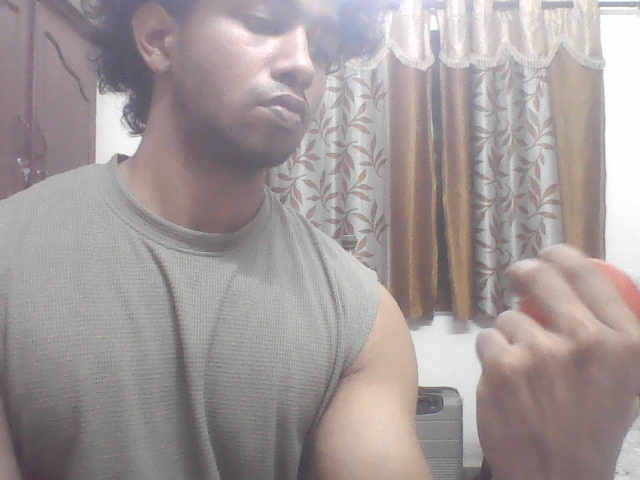cricket_ball: (518, 246, 640, 338)
